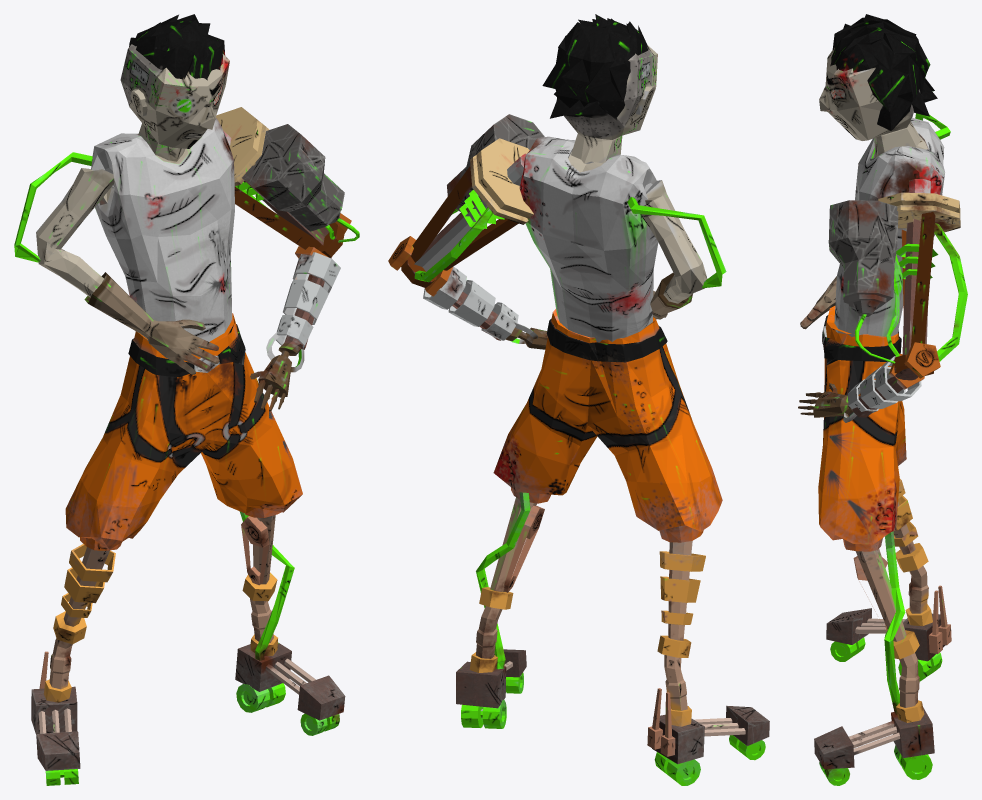
The model's file is CyborgFINALAnimation_000053.obj.
3 views of the same model, side by side, from view 1: azimuth 30°, elevation 25°; view 2: azimuth 150°, elevation 25°; view 3: azimuth 270°, elevation 25° (orthographic). The views are drawn at different scales.
Parts seen in each view (by area): view 1: CyborgMesh_Cube.002; view 2: CyborgMesh_Cube.002; view 3: CyborgMesh_Cube.002.
Boxes of the visible parts, box(x1,y1,x2,y2) form: CyborgMesh_Cube.002: box(14, 14, 359, 785); CyborgMesh_Cube.002: box(388, 14, 769, 785); CyborgMesh_Cube.002: box(798, 14, 967, 785).
Size of the model in its own units: 4.74 by 9.57 by 2.09.
